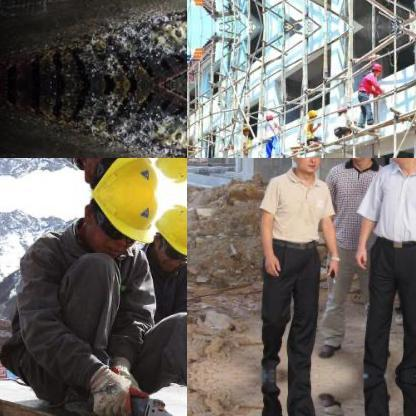Helmet: (72, 192, 166, 260), (142, 195, 186, 272), (141, 158, 186, 191), (284, 158, 325, 178), (305, 107, 317, 122), (369, 60, 381, 74)
